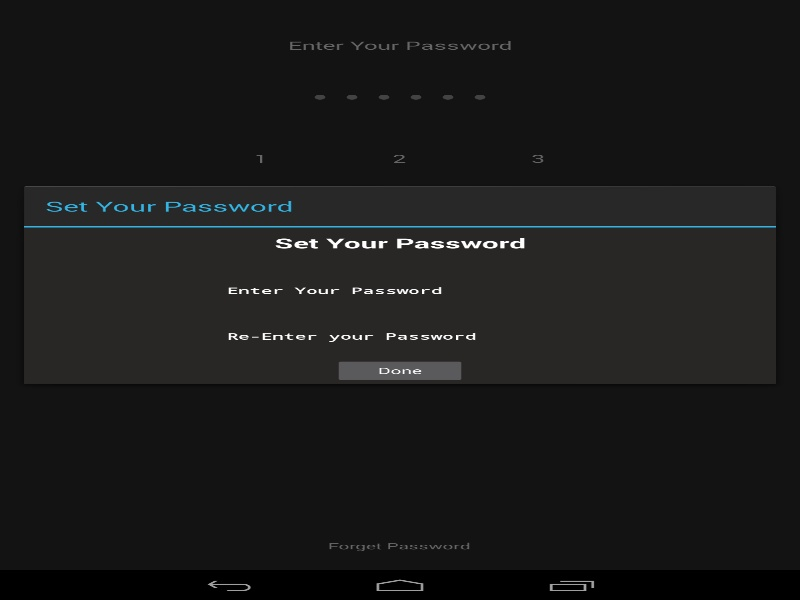Button: (333, 357, 466, 383)
Input: (213, 278, 600, 302), (213, 324, 600, 348)
